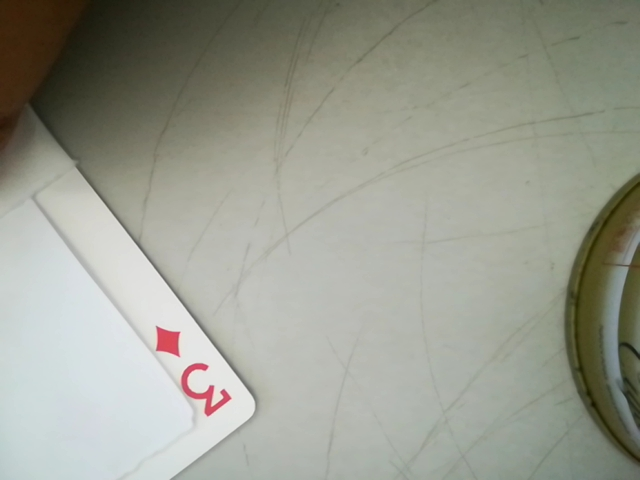fk 3: (139, 317, 237, 430)
